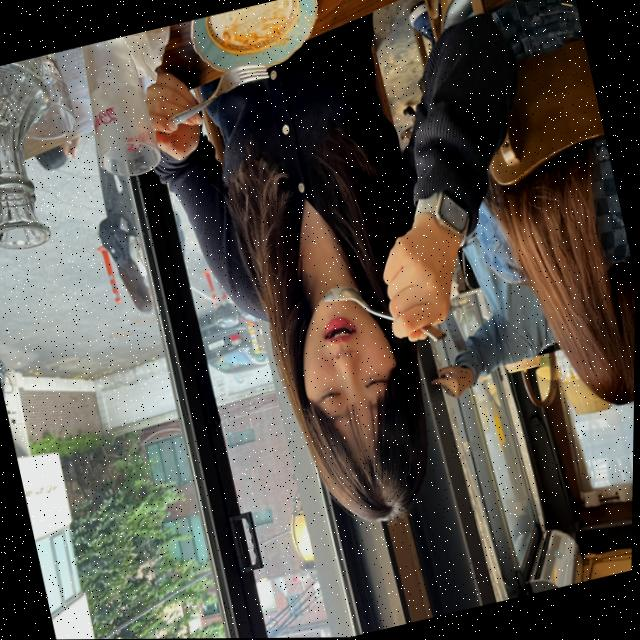eating-person: (118, 0, 628, 579)
